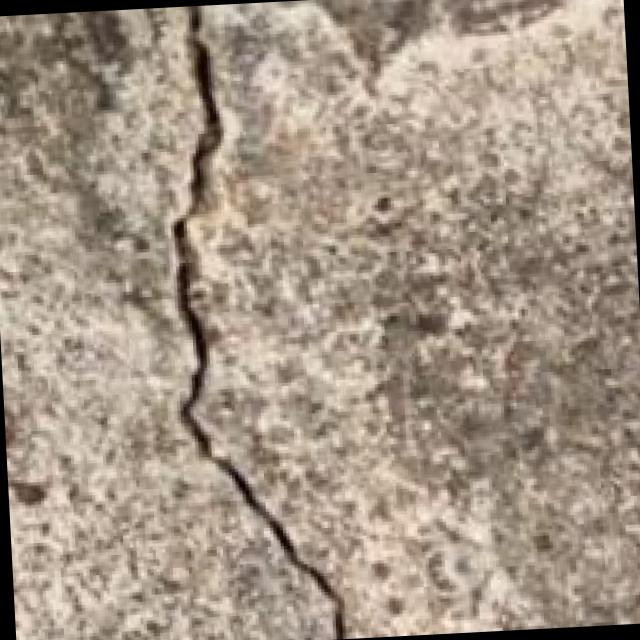crack: (79, 0, 368, 640)
